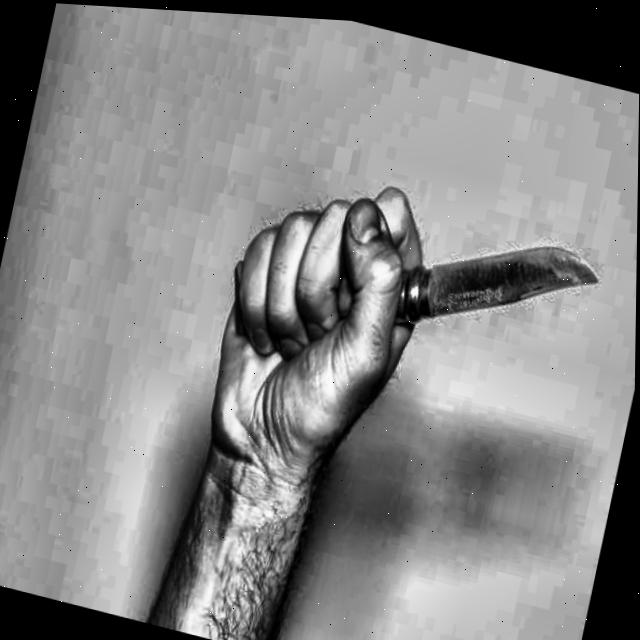pisau: (213, 156, 618, 433)
